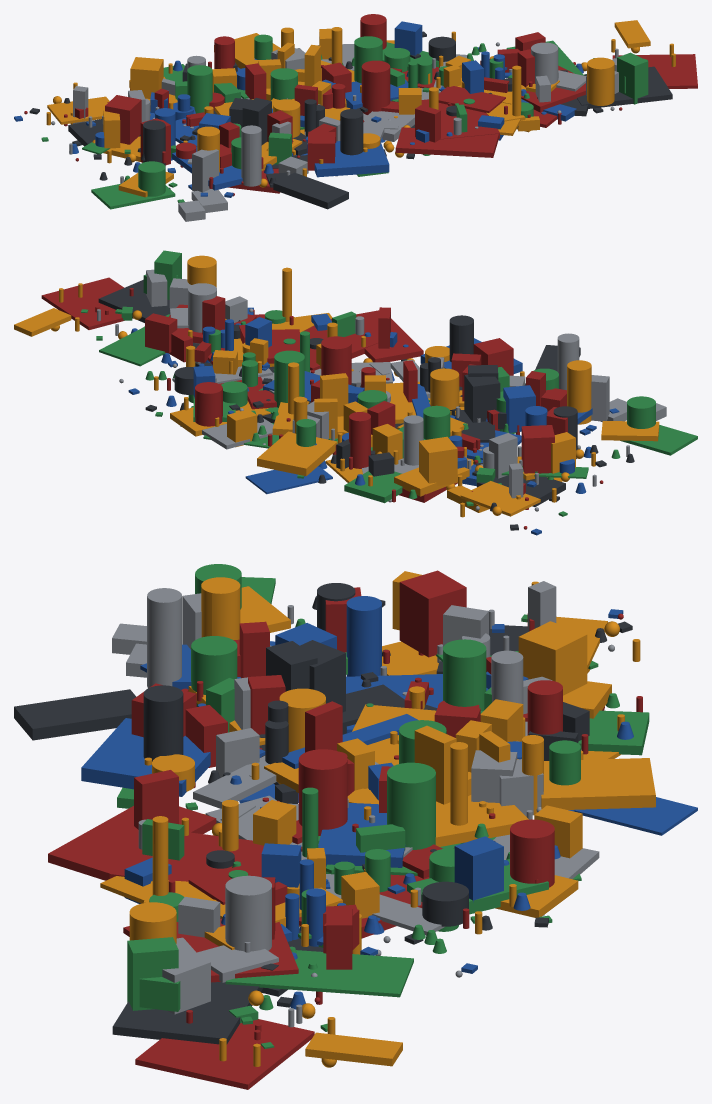
File: hero-model.glb
3 renders of one model, top to bottom at view 1: azimuth 30°, elevation 25°; view 2: azimuth 150°, elevation 25°; view 3: azimuth 270°, elevation 25°, orthographic. The views are drawn at different scales.
Visible parts, largest first — view 1: Part 00040, Part 00045, Part 00004, Part 00092, Part 00116, Part 00114, Part 00117, Part 00003, Part 00147, Part 00186, Part 00177, Part 00112 (+65 smaller); view 2: Part 00116, Part 00221, Part 00186, Part 00147, Part 00040, Part 00052, Part 00169, Part 00009, Part 00112, Part 00126, Part 00218, Part 00092 (+59 smaller); view 3: Part 00116, Part 00126, Part 00221, Part 00112, Part 00004, Part 00040, Part 00147, Part 00186, Part 00104, Part 00045, Part 00124, Part 00003 (+85 smaller).
Part boxes in pixels (x1,y1,x2,y2): Part 00040: [395, 127, 498, 157]; Part 00045: [307, 141, 389, 177]; Part 00004: [273, 172, 348, 209]; Part 00092: [361, 60, 390, 114]; Part 00116: [612, 54, 697, 88]; Part 00114: [587, 57, 614, 105]; Part 00117: [617, 52, 648, 104]; Part 00003: [241, 125, 261, 186]; Part 00147: [105, 95, 141, 144]; Part 00186: [130, 57, 163, 98]; Part 00177: [187, 65, 212, 113]; Part 00112: [577, 66, 672, 108]; Part 00116: [41, 277, 133, 329]; Part 00221: [257, 431, 337, 476]; Part 00186: [419, 436, 457, 485]; Part 00147: [521, 425, 554, 473]; Part 00040: [356, 310, 423, 362]; Part 00052: [464, 374, 500, 422]; Part 00169: [460, 481, 540, 516]; Part 00009: [567, 360, 591, 424]; Part 00112: [98, 279, 171, 322]; Part 00126: [99, 314, 169, 366]; Part 00218: [245, 466, 332, 494]; Part 00092: [321, 336, 351, 384]; Part 00116: [135, 1019, 314, 1089]; Part 00126: [225, 950, 413, 997]; Part 00221: [541, 758, 655, 809]; Part 00112: [112, 982, 263, 1044]; Part 00004: [14, 689, 136, 740]; Part 00040: [48, 806, 216, 880]; Part 00147: [399, 570, 466, 657]; Part 00186: [518, 621, 587, 695]; Part 00104: [387, 762, 435, 849]; Part 00045: [81, 718, 210, 796]; Part 00124: [225, 875, 271, 951]; Part 00003: [147, 588, 181, 688].
Size of the model in its own units: 1428 by 154 by 822.
